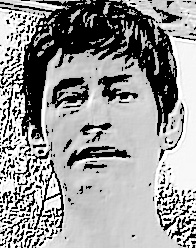nose_M_C: (78, 96, 115, 143)
